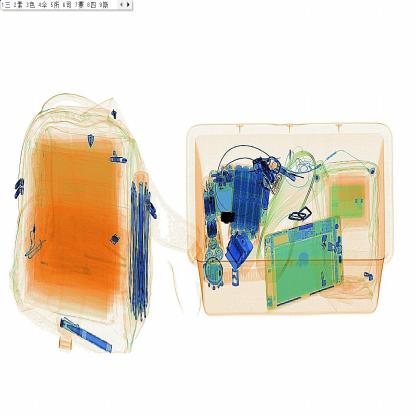scissors: (216, 205, 239, 231)
